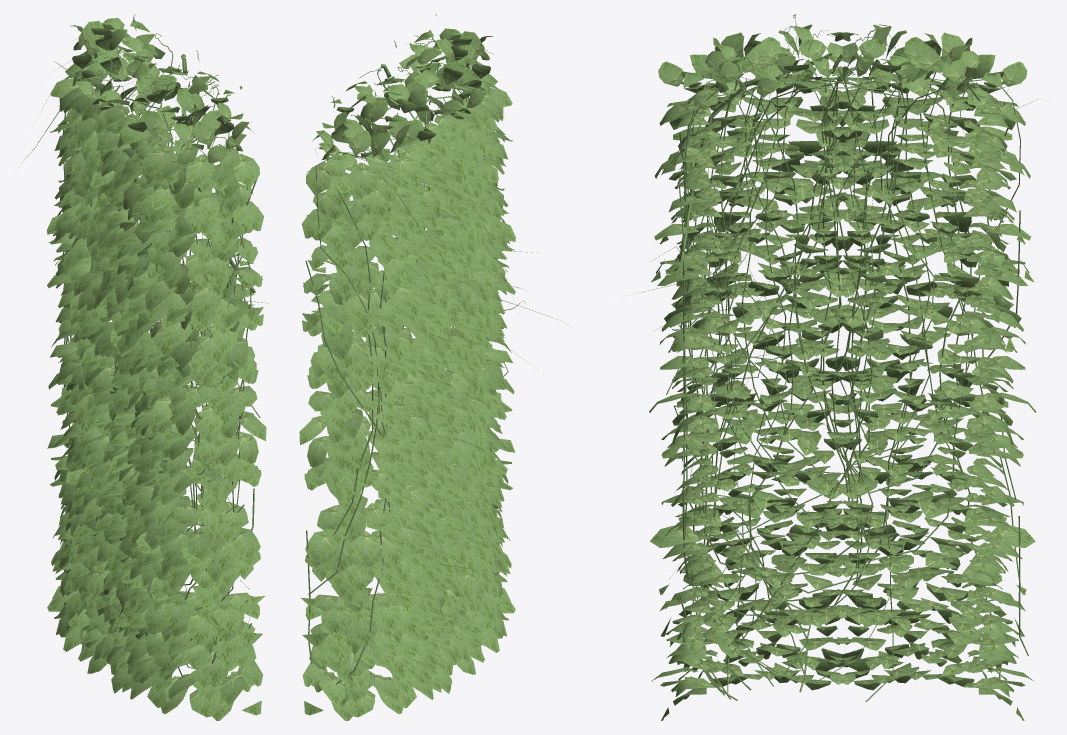
The model's file is grass.fbx.
3 renders of one model, left to right at view 1: azimuth 30°, elevation 25°; view 2: azimuth 150°, elevation 25°; view 3: azimuth 270°, elevation 25°, orthographic. The views are drawn at different scales.
Visible parts, largest first — view 1: AM126_144_v3; view 2: AM126_144_v3; view 3: AM126_144_v3.
Boxes of the visible parts, left/top/right/bottom form: AM126_144_v3: left=18, top=14, right=268, bottom=720; AM126_144_v3: left=299, top=14, right=560, bottom=720; AM126_144_v3: left=636, top=14, right=1045, bottom=720.
Size of the model in its own units: 378 by 1643 by 944.
1 material, 1 textured.
